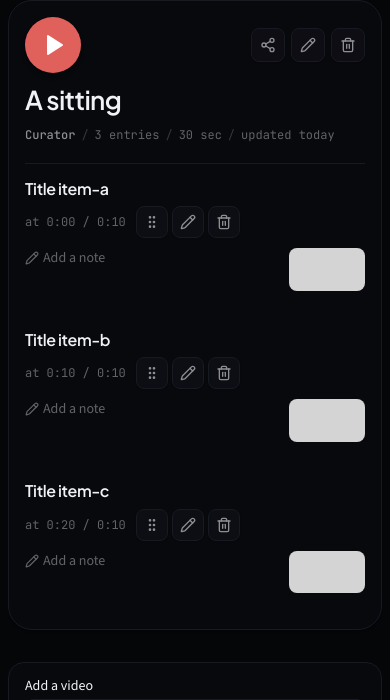
Test case: CollectionDetail header controls › offers the run's controls beside the collection's own, and only while it runs
Expected: the button named "Share collection" is shown, 251,28 -> 285,62
Expected: the button named "Edit collection" is shown, 291,28 -> 325,62
Click the button named "Play the whole collection": (53, 45) 25,17 -> 81,73
Wait 2 ms
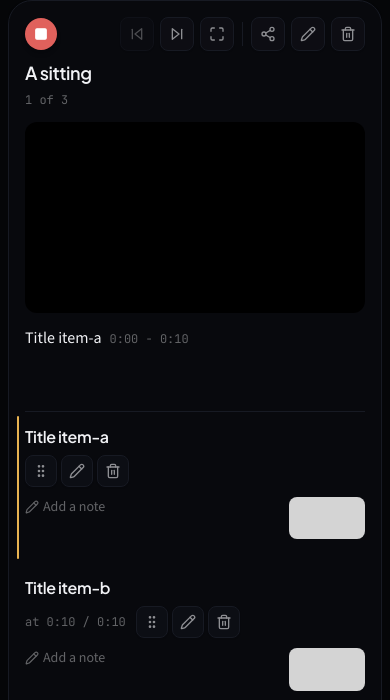
Expected: the button named "Stop playback" is shown, 25,18 -> 57,50
Expected: the button named "Previous entry" is shown, 120,17 -> 154,51
Expected: the button named "Next entry" is shown, 160,17 -> 194,51
